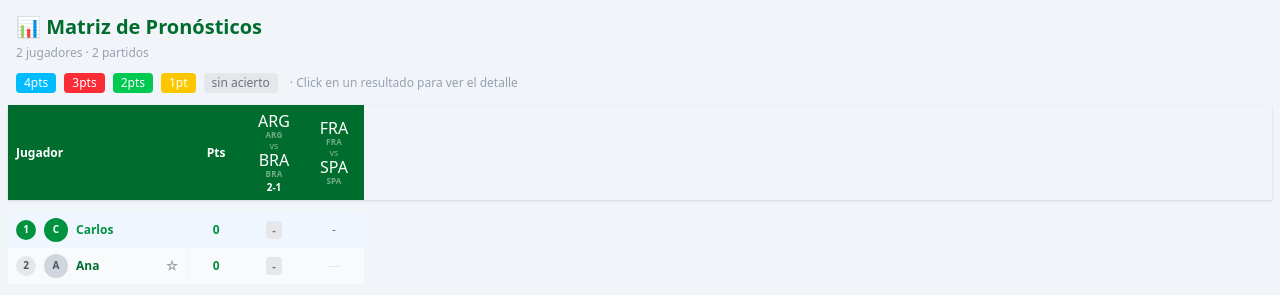
Test: Matriz — filtros de color en render › "✕ limpiar" aparece al activar un filtro y desaparece al limpiar
Click the button "3pts" at point(84, 83), box [64, 73, 105, 93]
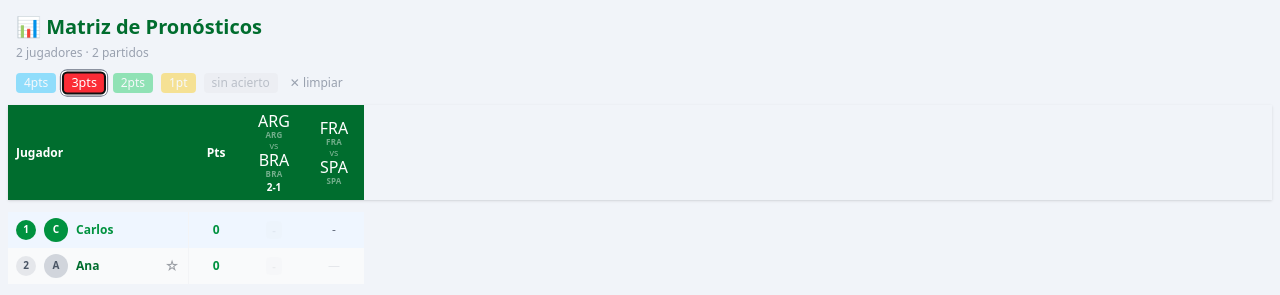
Check: the button "✕ limpiar" is shown
Click the button "✕ limpiar" at point(316, 83), box [290, 75, 343, 91]
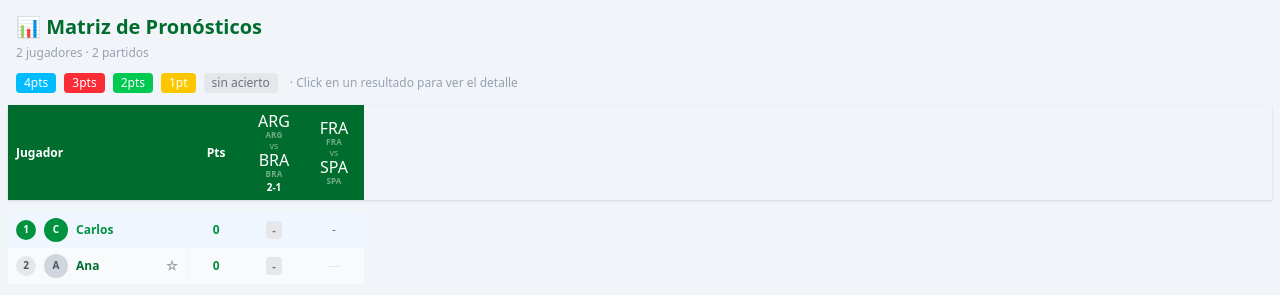
Check: the button "limpiar" is gone
